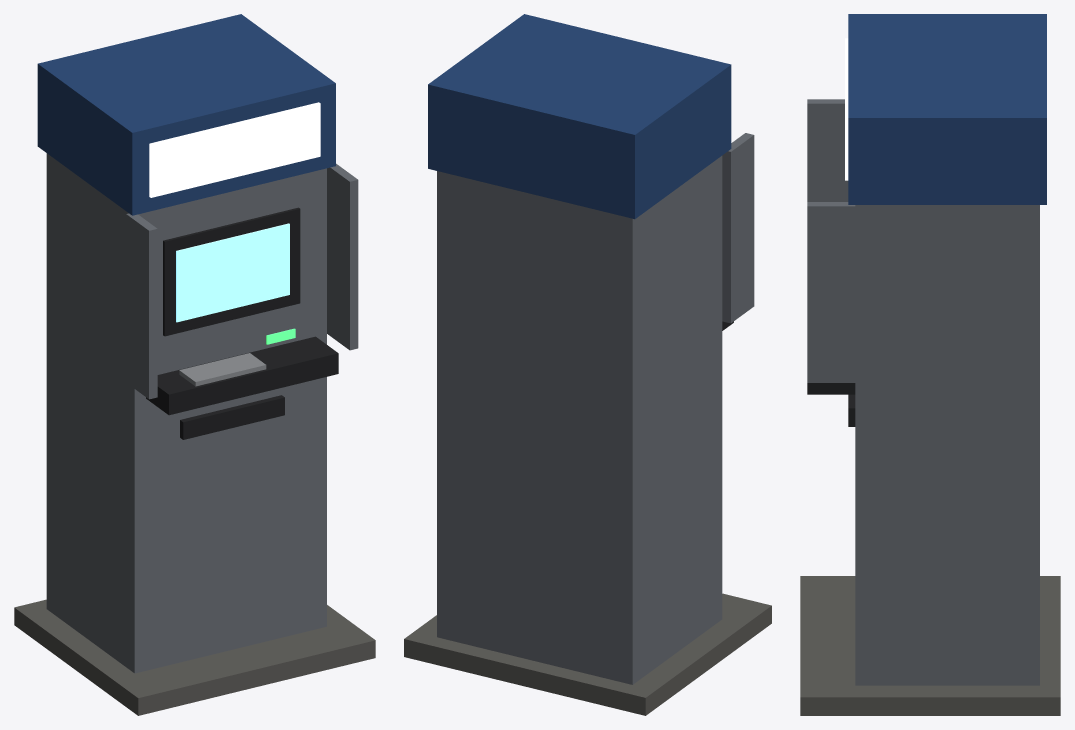
File: atm.glb
The picture shows the model from 3 angles, left to right: view 1: azimuth 30°, elevation 25°; view 2: azimuth 150°, elevation 25°; view 3: azimuth 270°, elevation 25°; orthographic projection. The views are drawn at different scales.
Parts seen in each view (by area): view 1: atm; view 2: atm; view 3: atm.
Boxes of the visible parts, x1,y1,x2,y2 form: atm: (14,14,375,715); atm: (404,14,771,715); atm: (800,14,1060,715).
Size of the model in its own units: 0.84 by 1.9 by 0.76.
Materials: 1 (1 with a texture image).
